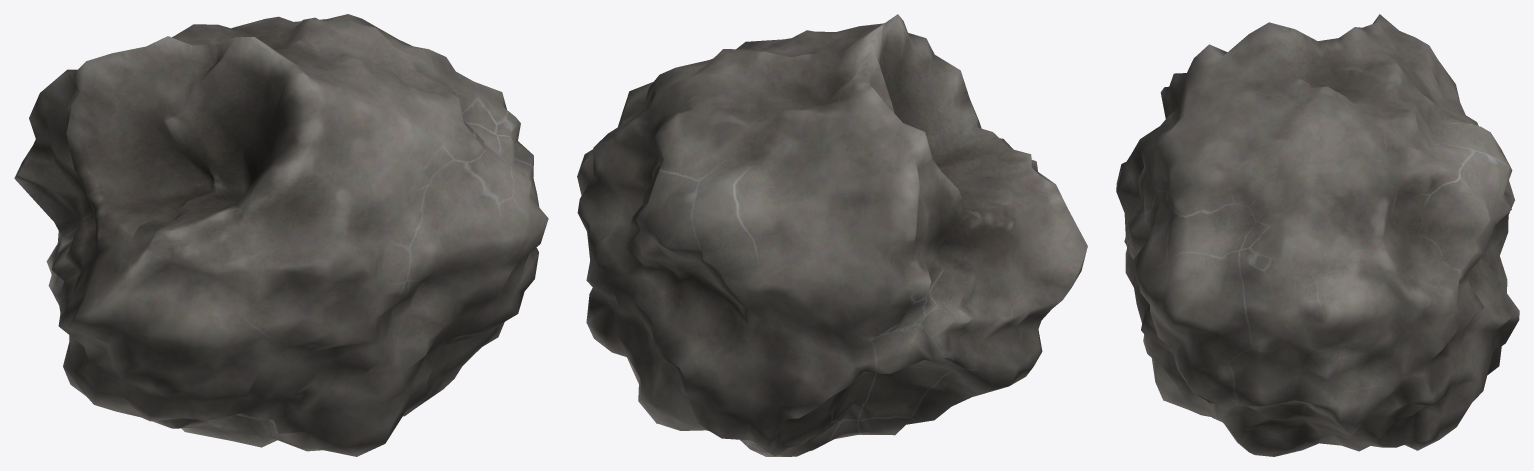
The model's file is asteroid_a.glb.
The picture shows the model from 3 angles, left to right: view 1: azimuth 30°, elevation 25°; view 2: azimuth 150°, elevation 25°; view 3: azimuth 270°, elevation 25°; orthographic projection. The views are drawn at different scales.
Parts seen in each view (by area): view 1: Asteroid_A; view 2: Asteroid_A; view 3: Asteroid_A.
Boxes of the visible parts, x1,y1,x2,y2 form: Asteroid_A: (14,14,548,456); Asteroid_A: (577,14,1087,456); Asteroid_A: (1116,14,1519,456).
Bounding box in the file's own units: 1.83 × 1.56 × 1.47.
1 material, 1 textured.
